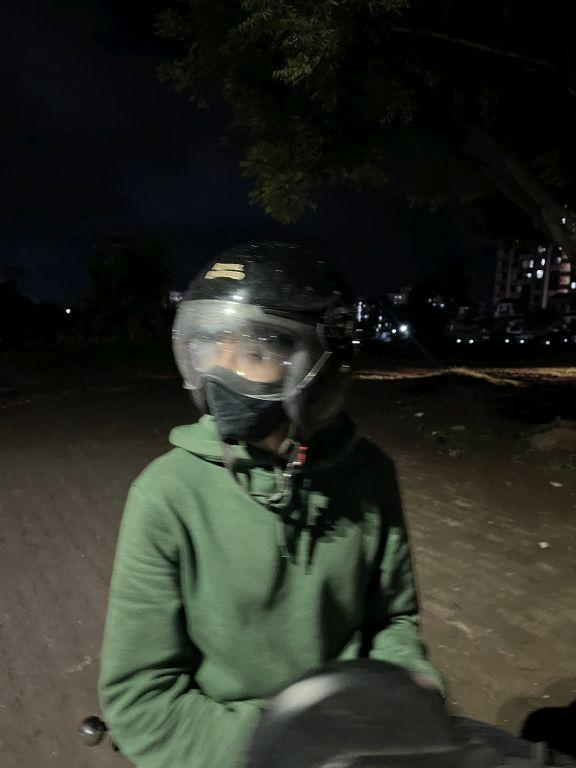helmet: (160, 229, 372, 461)
